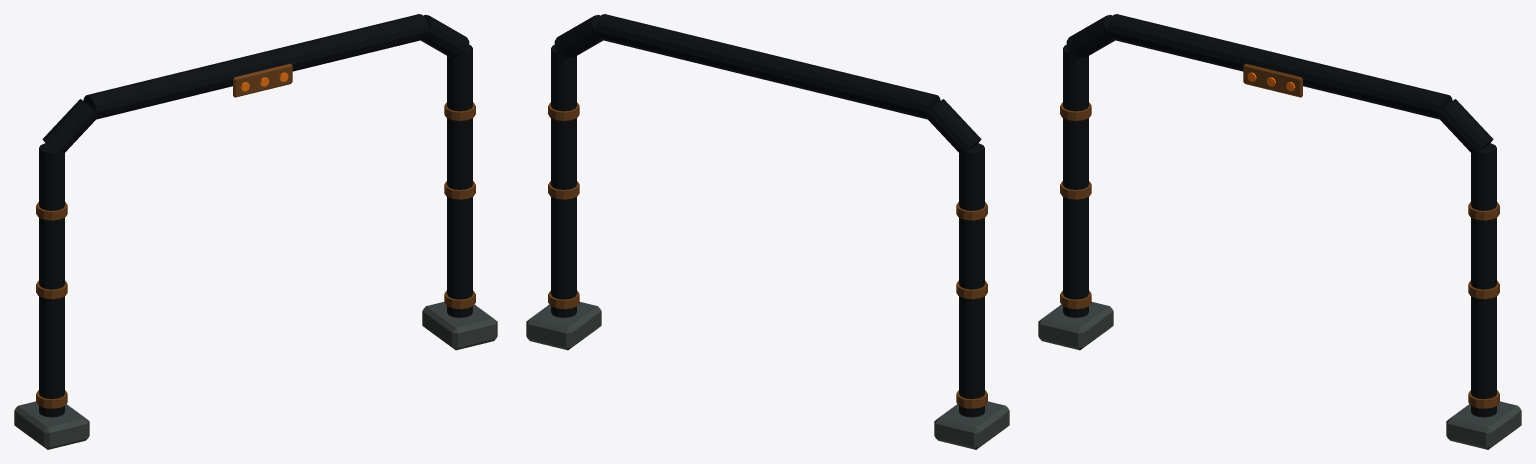
File: pipe-arch.glb
3 views of the same model, side by side, from view 1: azimuth 30°, elevation 25°; view 2: azimuth 150°, elevation 25°; view 3: azimuth 330°, elevation 25° (orthographic).
Parts seen in each view (by area): view 1: pipe-arch; view 2: pipe-arch; view 3: pipe-arch.
Part boxes in pixels (x1,y1,x2,y2): pipe-arch: (14,14,497,449); pipe-arch: (526,14,1009,449); pipe-arch: (1038,14,1521,449).
Size of the model in its own units: 8.45 by 5.86 by 1.1.
Materials: 1 (1 with a texture image).
